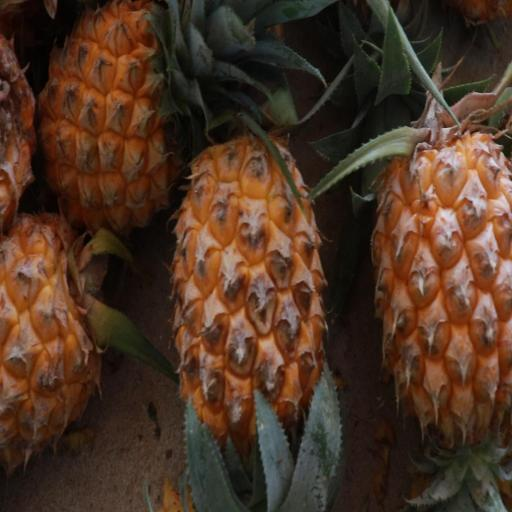Pineapple - v8 v1: (163, 122, 331, 512), (363, 99, 512, 467), (35, 0, 216, 241), (0, 193, 124, 472)
